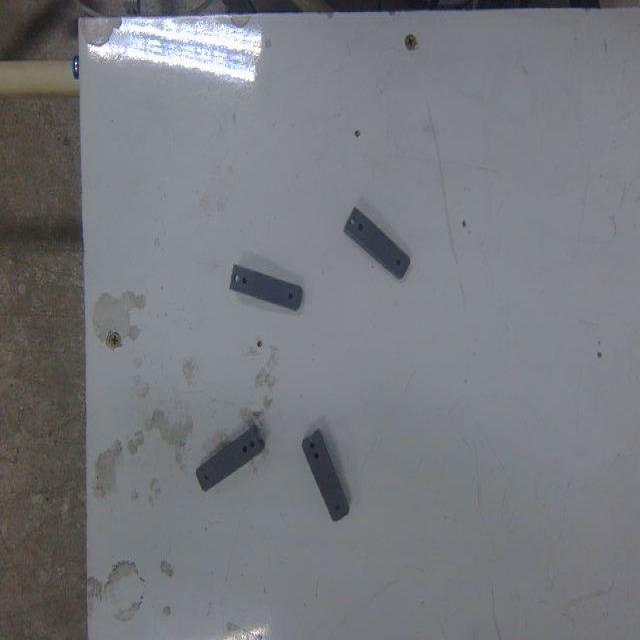grey: (344, 206, 413, 285), (195, 424, 264, 494), (302, 426, 351, 524), (230, 264, 303, 318)
head: (394, 254, 404, 273), (284, 290, 296, 305), (201, 470, 212, 486), (334, 502, 343, 514)
